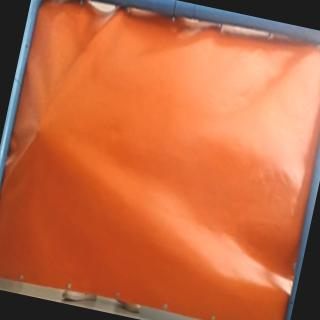Hit-hRxx: (29, 123, 46, 140)
